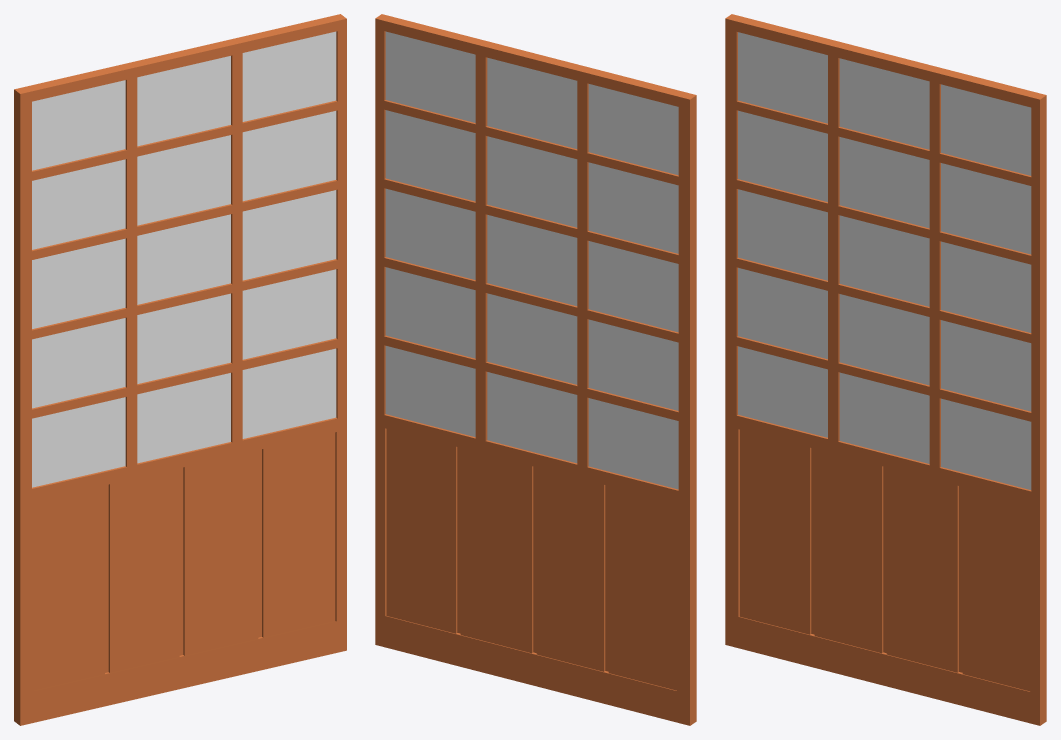
File: paper sliding door.fbx
3 views of the same model, side by side, from view 1: azimuth 30°, elevation 25°; view 2: azimuth 150°, elevation 25°; view 3: azimuth 330°, elevation 25° (orthographic).
Parts seen in each view (by area): view 1: 障子.001; view 2: 障子.001; view 3: 障子.001.
Part boxes in pixels (x1=…): 障子.001: x1=14, y1=14, x2=346, y2=725; 障子.001: x1=375, y1=14, x2=696, y2=725; 障子.001: x1=725, y1=14, x2=1046, y2=725.
Bounding box in the file's own units: 96.96 × 182 × 5.62.
